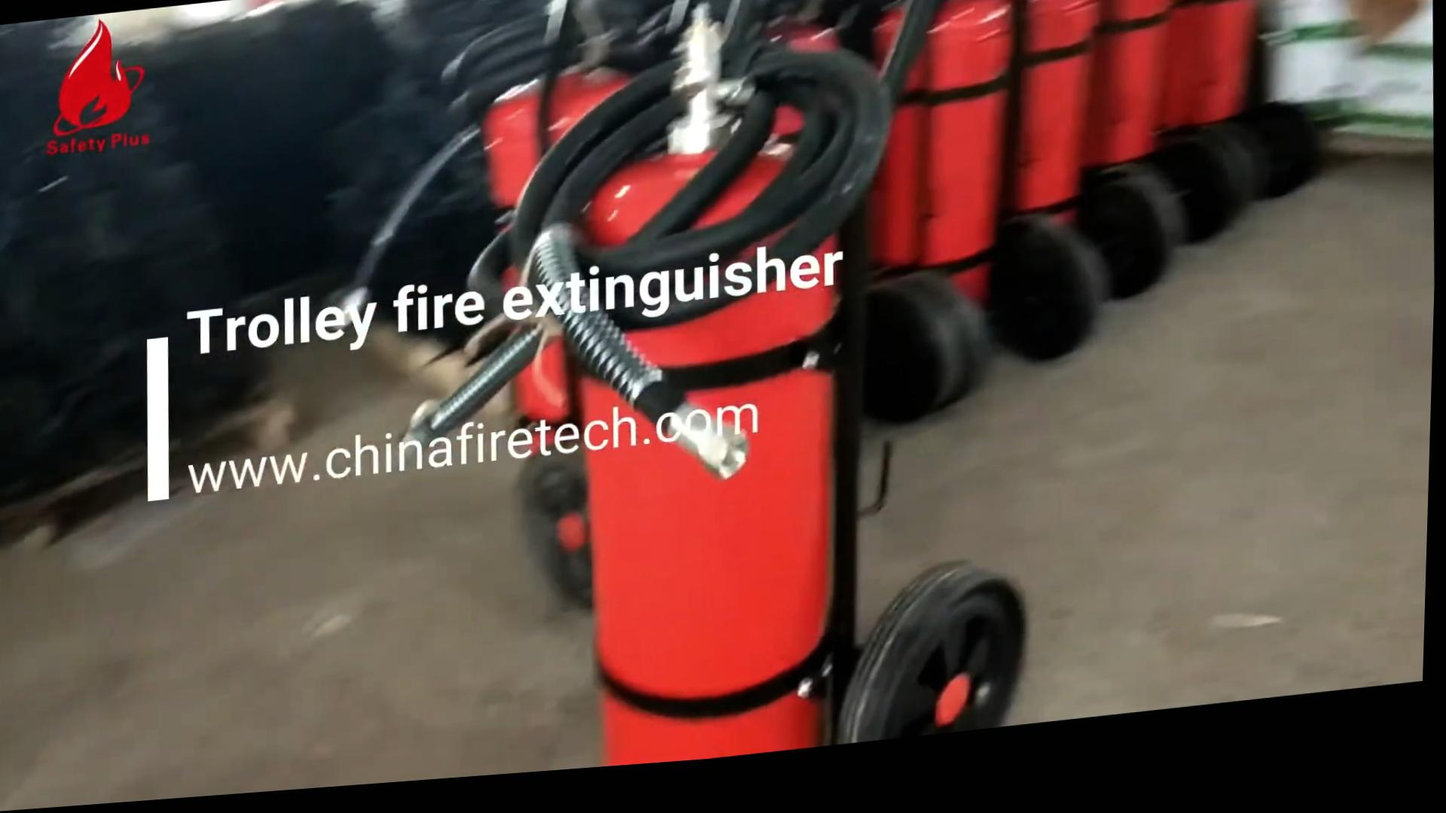FireExtinguisher: (521, 100, 878, 782), (716, 0, 1030, 461), (433, 43, 646, 494), (1039, 0, 1201, 336), (978, 0, 1111, 384), (1128, 0, 1301, 285)
